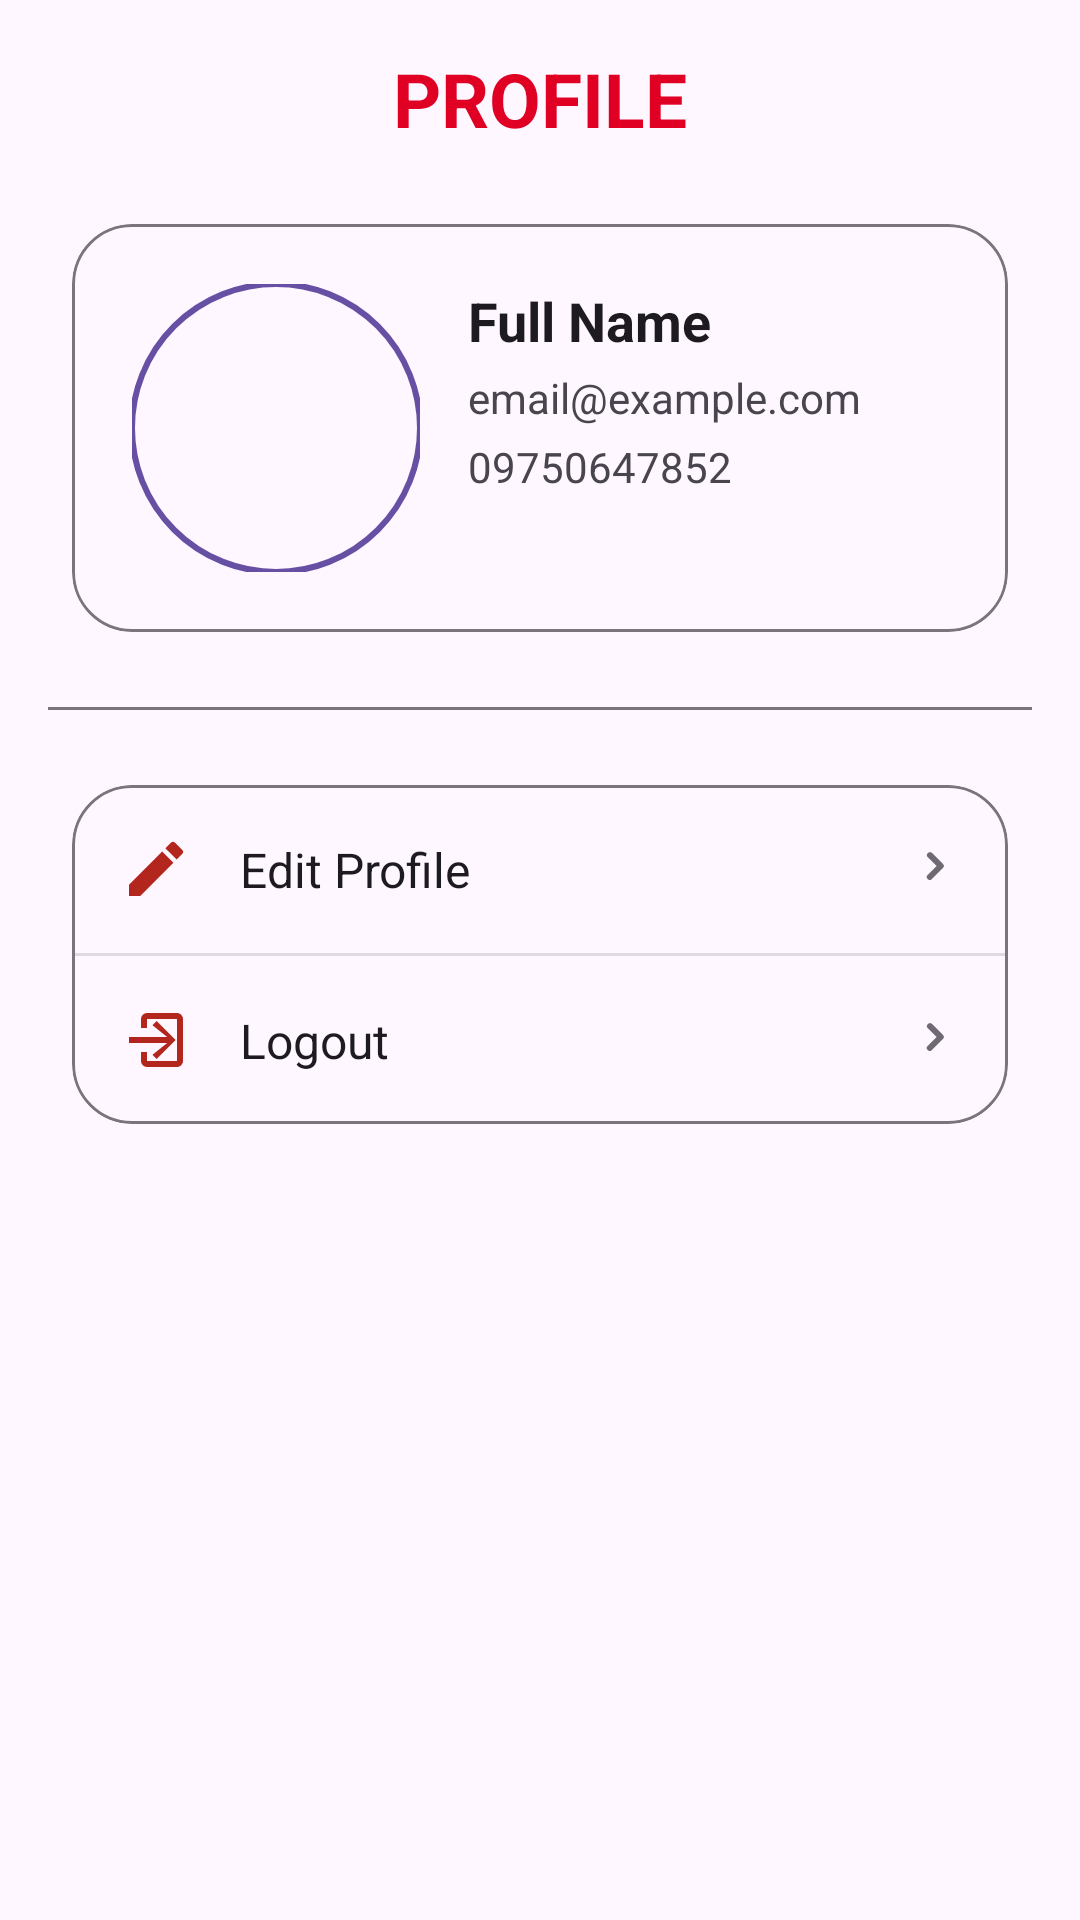

Icon click points for this 1080×1920 phone screenshot, format (x=x, y=y):
chevron right: (x=935, y=866), (x=935, y=1037)
